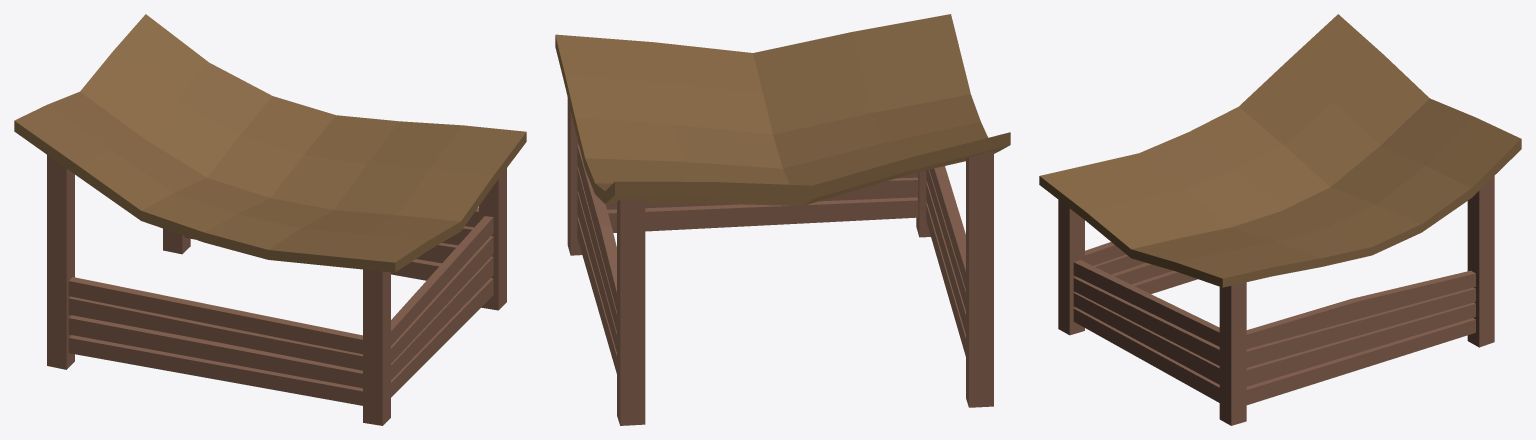
The model's file is Shed.glb.
3 views of the same model, side by side, from view 1: azimuth 30°, elevation 25°; view 2: azimuth 150°, elevation 25°; view 3: azimuth 270°, elevation 25° (orthographic). The views are drawn at different scales.
Parts seen in each view (by area): view 1: Shed; view 2: Shed; view 3: Shed.
Boxes of the visible parts, x1,y1,x2,y2 form: Shed: [14, 14, 526, 425]; Shed: [555, 14, 1010, 425]; Shed: [1039, 14, 1521, 425].
Bounding box in the file's own units: 10.99 × 5.73 × 11.32.
